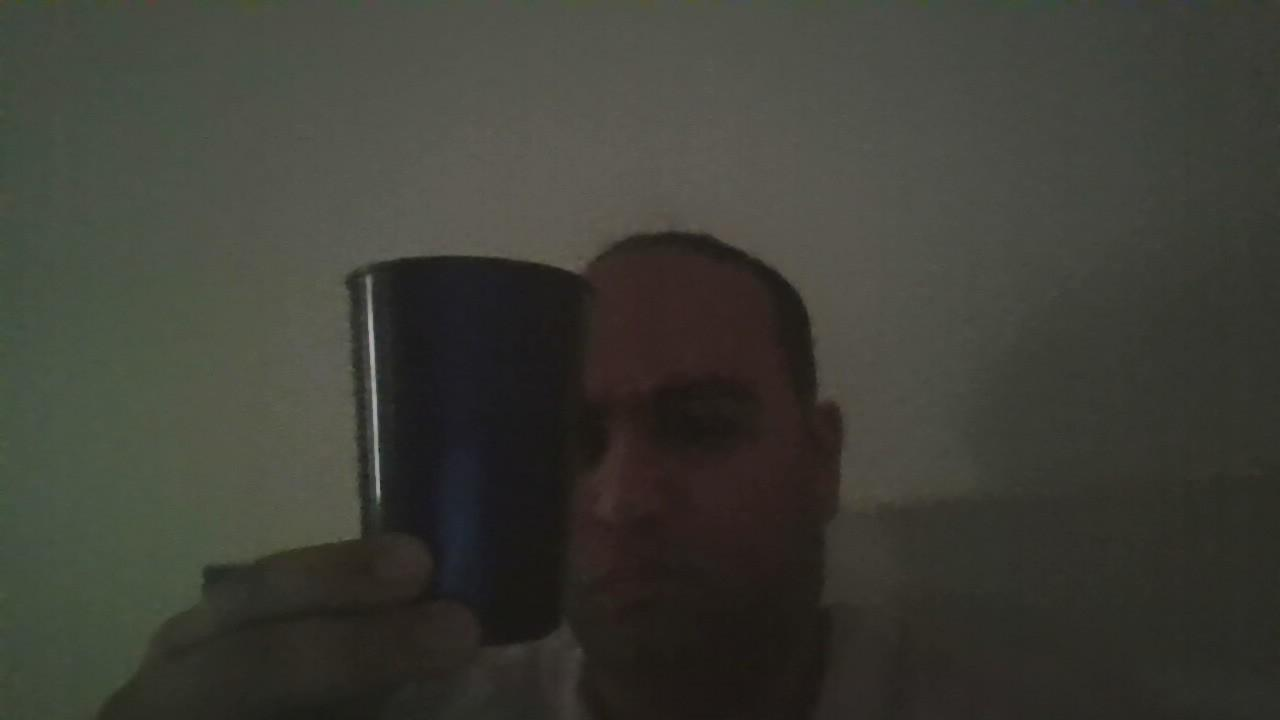cup: (347, 256, 593, 644)
